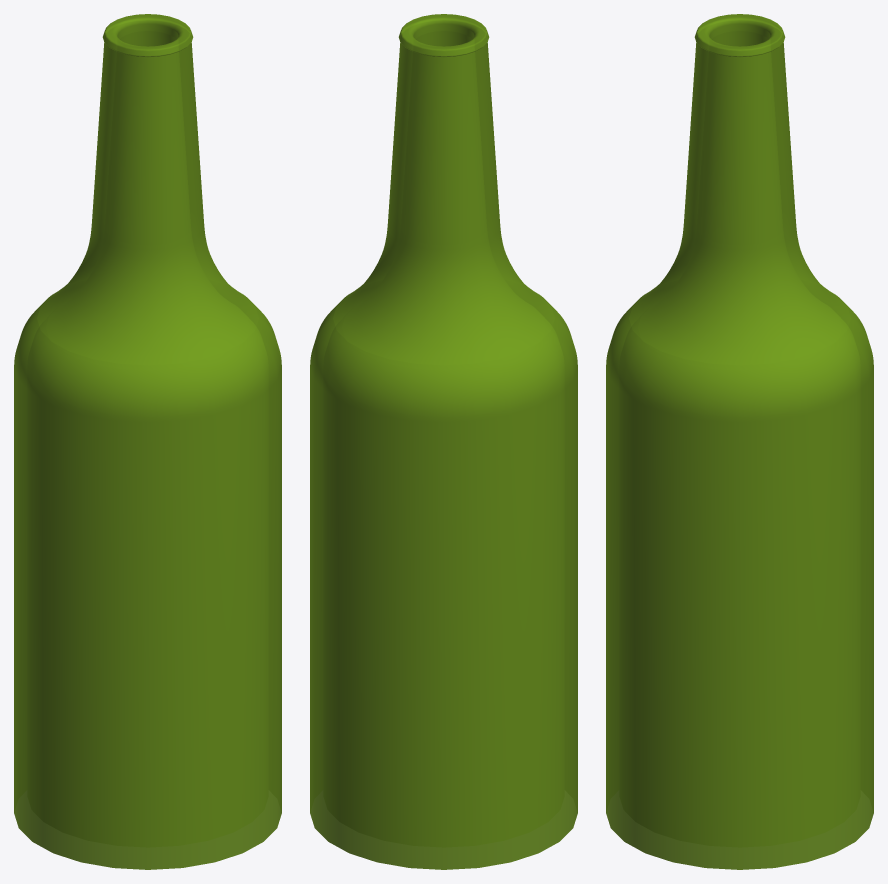
3 renders of one model, left to right at view 1: azimuth 30°, elevation 25°; view 2: azimuth 150°, elevation 25°; view 3: azimuth 270°, elevation 25°, orthographic.
Visible parts, largest first — view 1: SketchUp (×3); view 2: SketchUp (×3); view 3: SketchUp (×3).
Part boxes in pixels (x1,y1,x2,y2): SketchUp (×3): (14,14,281,869); SketchUp (×3): (310,14,577,869); SketchUp (×3): (606,14,873,869).
Size of the model in its own units: 26.43 by 26.43 by 85.14.
